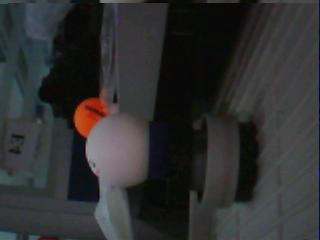oball: (74, 98, 108, 138)
